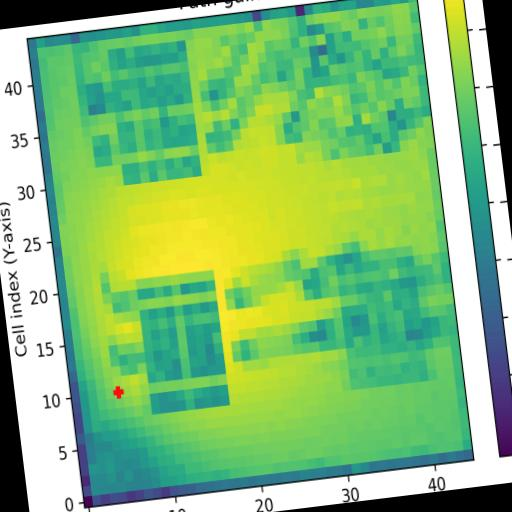Concrete: (306, 14, 416, 150)
Glass: (108, 38, 202, 185)
Metal: (336, 247, 429, 389)
Wood: (136, 268, 230, 412)
